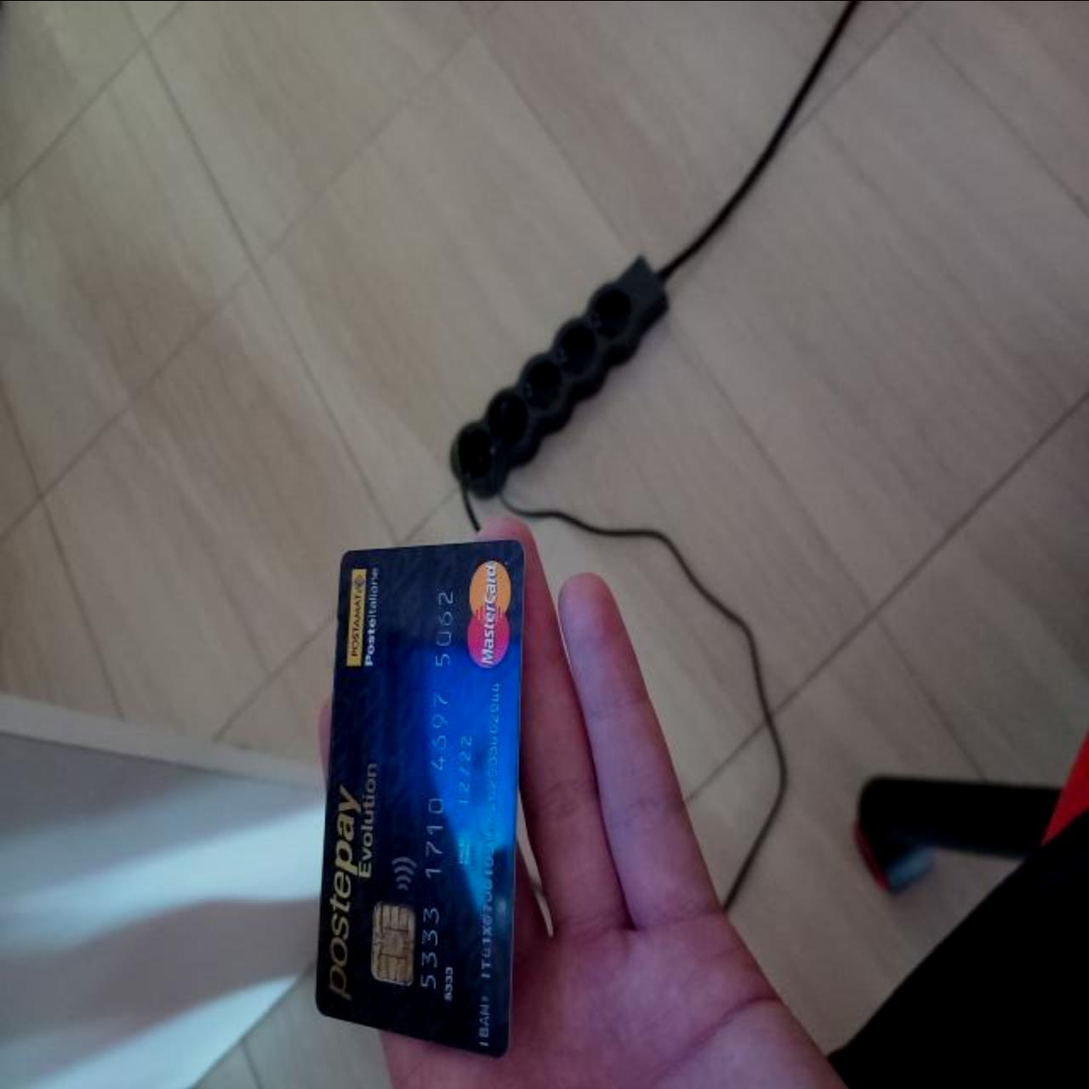credit_card: (310, 507, 555, 1065)
